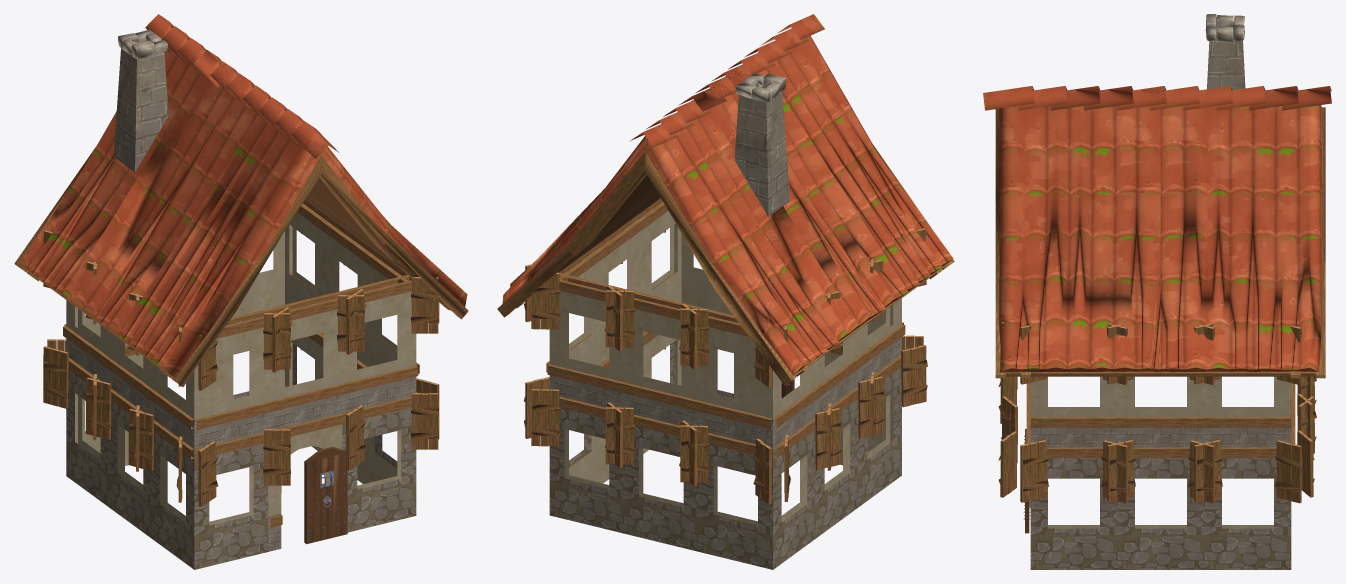
The model's file is MerchantHouse.medium.gltf.
3 views of the same model, side by side, from view 1: azimuth 30°, elevation 25°; view 2: azimuth 150°, elevation 25°; view 3: azimuth 270°, elevation 25° (orthographic).
Parts seen in each view (by area): view 1: Roof_RoundTiles_6x6, Wall_Plaster_Window_Wide_Flat (×10), Wall_UnevenBrick_Window_Wide_Flat (×9), WindowShutters_Wide_Flat_Open (×8), Prop_Chimney, Door_2_Round, Wall_Plaster_Door_Round; view 2: Roof_RoundTiles_6x6, Wall_UnevenBrick_Window_Wide_Flat (×10), Wall_Plaster_Window_Wide_Flat (×10), WindowShutters_Wide_Flat_Open (×10), Prop_Chimney; view 3: Roof_RoundTiles_6x6, Wall_UnevenBrick_Window_Wide_Flat (×3), Wall_Plaster_Window_Wide_Flat (×3), WindowShutters_Wide_Flat_Open (×10), Prop_Chimney.
Part boxes in pixels (box(x1,y1,x2,y2)): Roof_RoundTiles_6x6: box(14, 14, 468, 387); Wall_Plaster_Window_Wide_Flat (×10): box(63, 200, 419, 453); Wall_UnevenBrick_Window_Wide_Flat (×9): box(66, 333, 417, 569); WindowShutters_Wide_Flat_Open (×8): box(43, 277, 438, 506); Prop_Chimney: box(113, 29, 168, 171); Door_2_Round: box(304, 447, 347, 544); Wall_Plaster_Door_Round: box(268, 413, 344, 551); Roof_RoundTiles_6x6: box(497, 14, 954, 385); Wall_UnevenBrick_Window_Wide_Flat (×10): box(549, 331, 901, 569); Wall_Plaster_Window_Wide_Flat (×10): box(546, 198, 905, 452); WindowShutters_Wide_Flat_Open (×10): box(523, 272, 927, 504); Prop_Chimney: box(734, 73, 789, 216); Roof_RoundTiles_6x6: box(983, 86, 1331, 378); Wall_UnevenBrick_Window_Wide_Flat (×3): box(1030, 447, 1291, 569); Wall_Plaster_Window_Wide_Flat (×3): box(1030, 376, 1291, 447); WindowShutters_Wide_Flat_Open (×10): box(998, 323, 1316, 503); Prop_Chimney: box(1205, 14, 1245, 90).
Size of the model in its own units: 8.25 by 11.68 by 8.03.
Materials: 7 (7 with a texture image).
